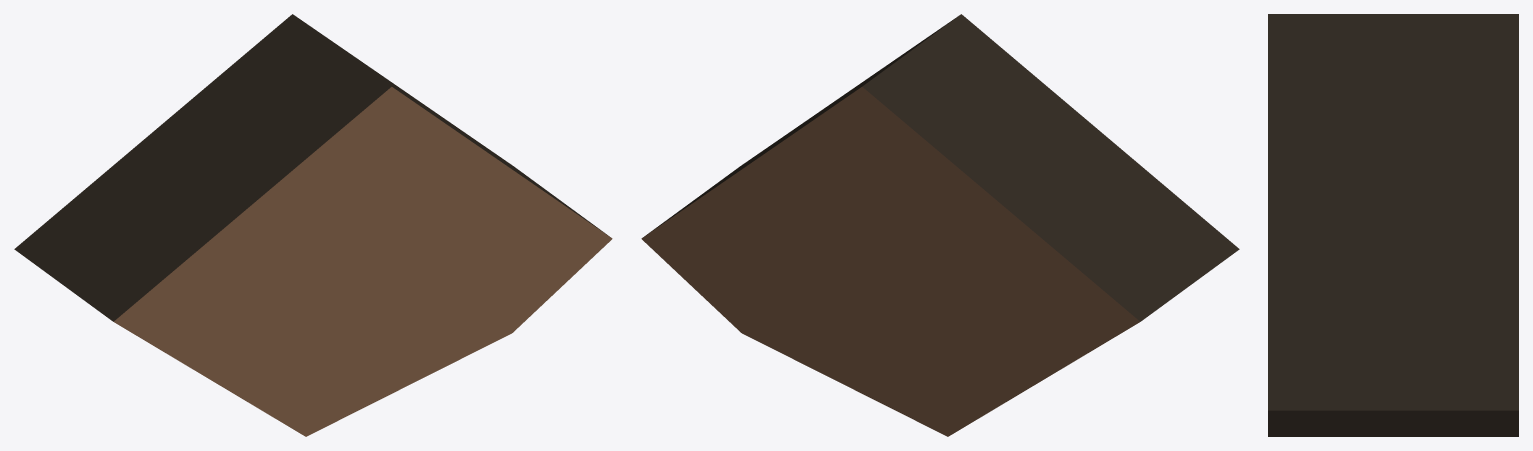
File: SM_DoorShard_03_16.fbx
The picture shows the model from 3 angles, left to right: view 1: azimuth 30°, elevation 25°; view 2: azimuth 150°, elevation 25°; view 3: azimuth 270°, elevation 25°; orthographic projection. The views are drawn at different scales.
Parts seen in each view (by area): view 1: SM_DoorShard_03_16; view 2: SM_DoorShard_03_16; view 3: SM_DoorShard_03_16.
Boxes of the visible parts, left/top/right/bottom form: SM_DoorShard_03_16: left=14, top=14, right=612, bottom=436; SM_DoorShard_03_16: left=641, top=14, right=1239, bottom=436; SM_DoorShard_03_16: left=1268, top=14, right=1518, bottom=436.
Size of the model in its own units: 46.49 by 16 by 29.3.
